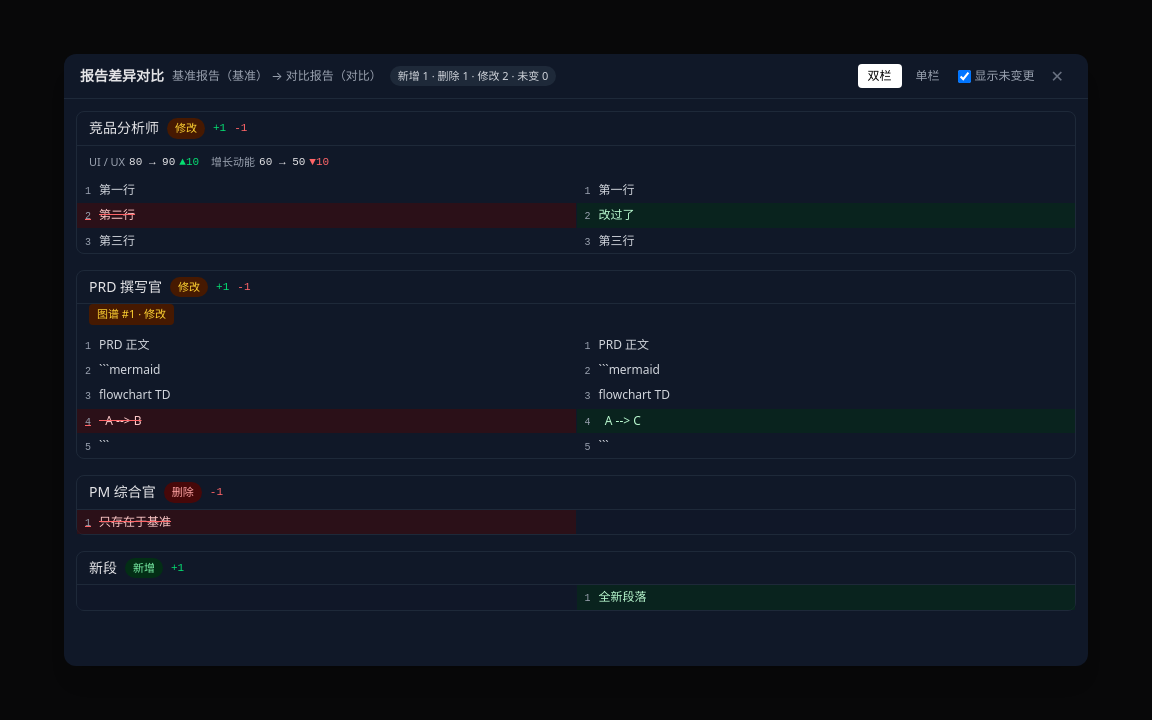
Test: ReportDiffModal（jsdom 交互） › 默认双栏，可切换到单栏
Click the tab "单栏": (928, 76) [906, 64, 950, 88]
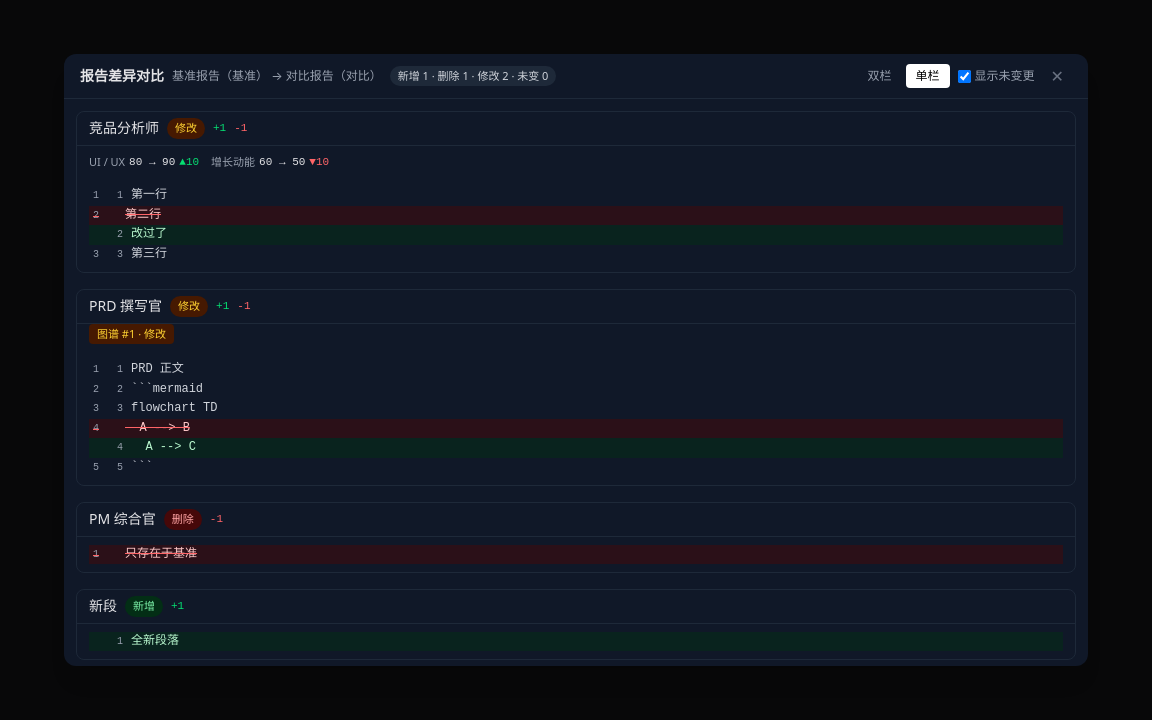
Expected: the element showing "1 1第一行 2 第二行 2改过了 3 3第三行" is shown, [77, 178, 1075, 272]
